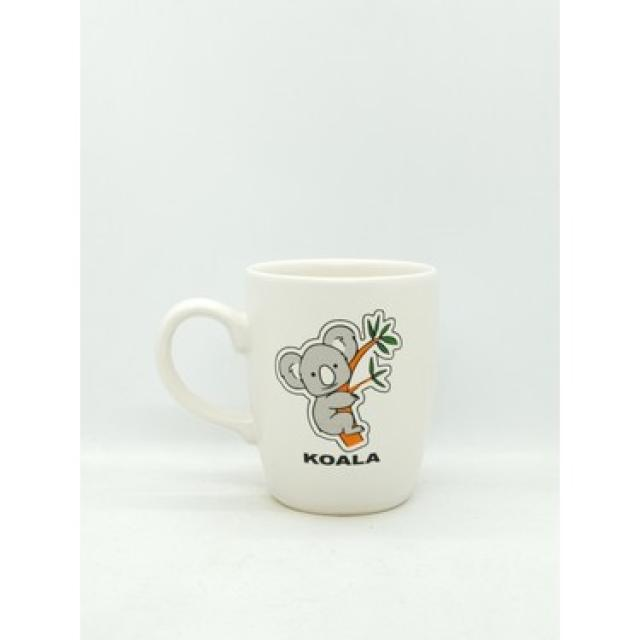Coffee Mug: (155, 256, 439, 519)
